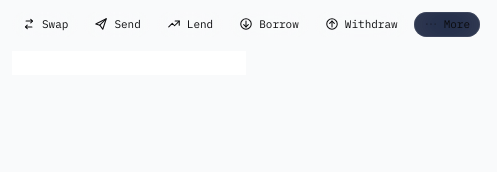
ActionRail › prefills Swap with the correct verb, focuses input, and does not submit
Click the button "Swap". click: (45, 25)
box: [12, 12, 78, 37]
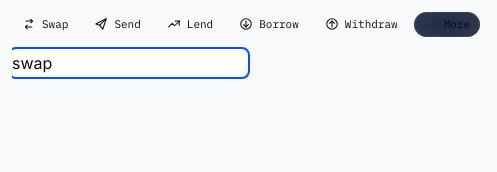
Expected: the field named "Intent" holds "swap ", [12, 51, 246, 75]
